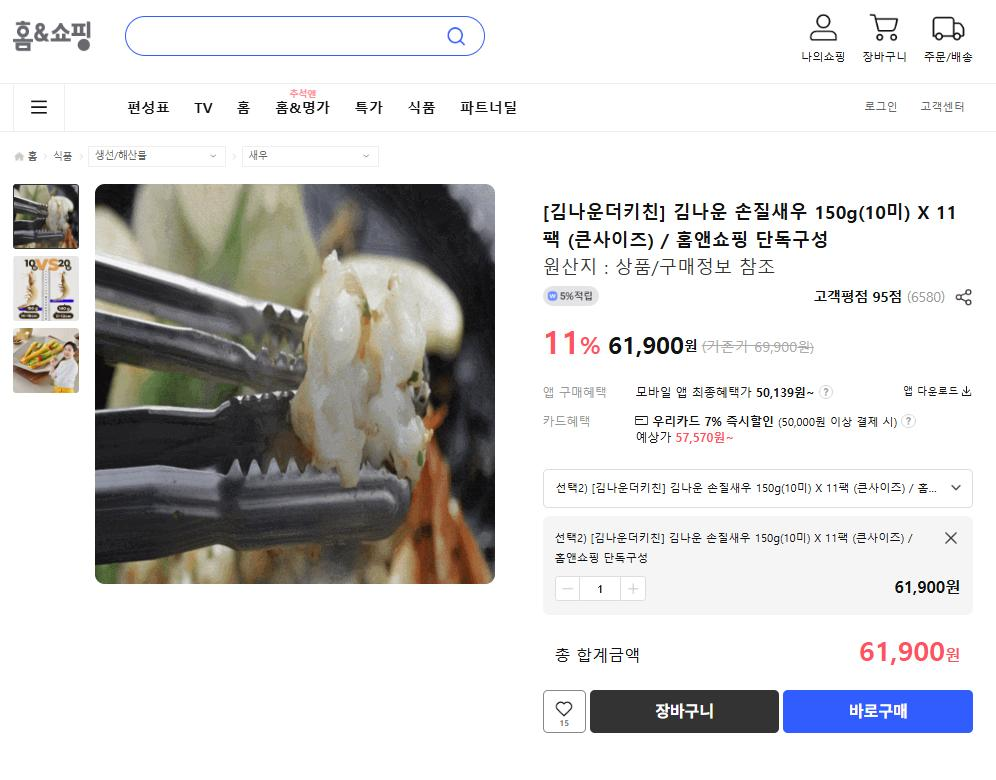button: (782, 686, 976, 737), (590, 687, 779, 734), (12, 183, 80, 247), (14, 254, 78, 320), (16, 328, 81, 391), (923, 8, 974, 69), (803, 12, 849, 71), (272, 82, 339, 118), (863, 9, 904, 64), (541, 686, 581, 738), (460, 99, 549, 121), (113, 91, 170, 120), (919, 93, 972, 116), (183, 89, 226, 116), (344, 91, 393, 114), (234, 88, 269, 117), (403, 90, 440, 113), (863, 94, 901, 114), (621, 578, 647, 602), (551, 576, 572, 600), (940, 528, 957, 548), (954, 290, 970, 307)
checkbox: (540, 472, 973, 509), (88, 146, 226, 167), (240, 147, 377, 166)
input_field: (123, 12, 479, 54)
